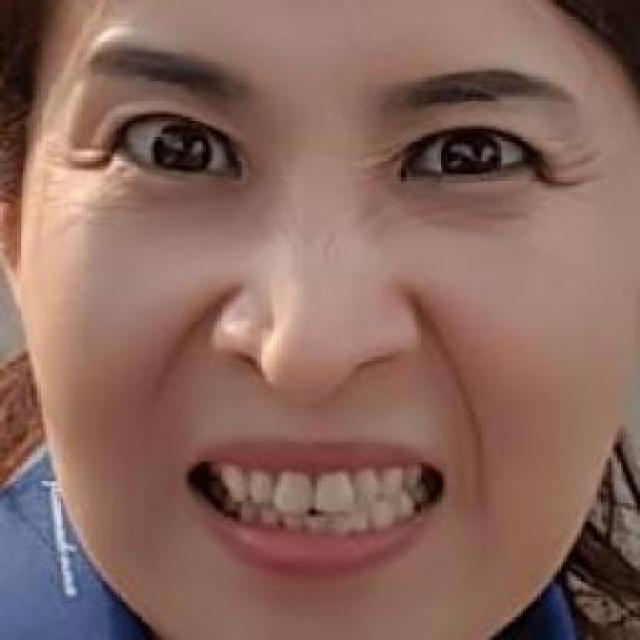angry: (48, 26, 569, 617)
